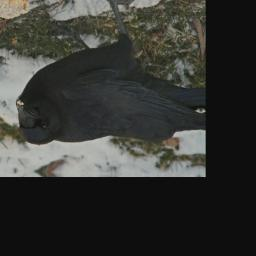Crow: (14, 0, 204, 151)
